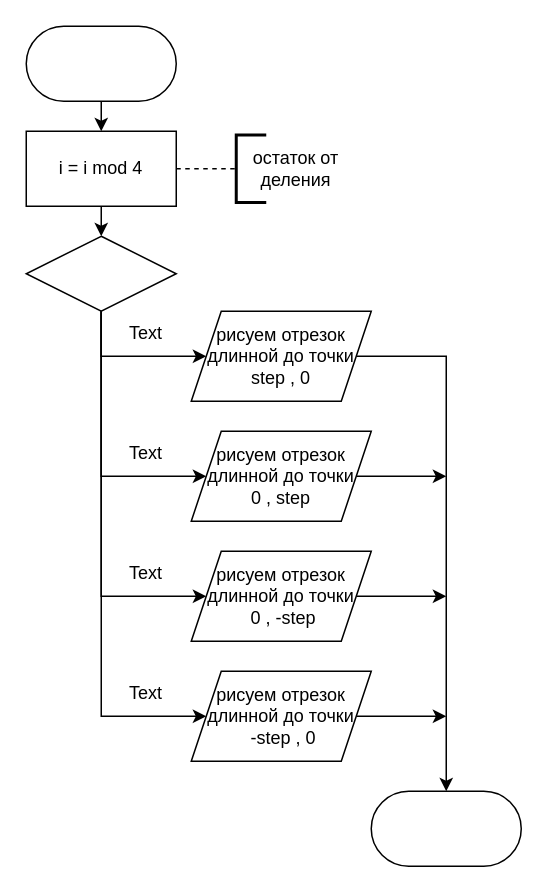
This 548x893 diagram has some shape labels left out. The box of each missing label's shape, as (x1, y1, x2, y2) in pixels:
конец: (370, 790, 521, 866)
начало модуль M: (25, 25, 176, 101)
оператор выбора: (25, 235, 176, 311)
